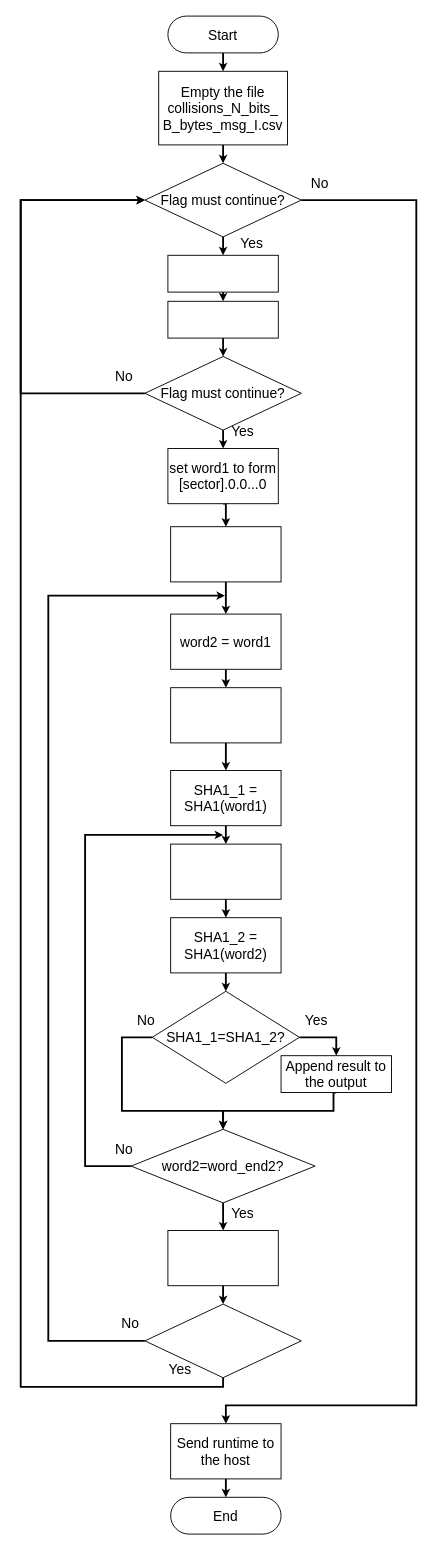
The diagram is 437 pixels wide and 1550 high, and some of its shapes have lost their labels. Each missing label, with the box of its shape:
Receive sector from host: (167, 300, 278, 338)
Send sector request to host: (167, 254, 278, 292)
set word_end1: (170, 526, 281, 582)
set word_end2: (170, 687, 281, 743)
Word1++: (167, 1230, 278, 1286)
word1=word_end1?: (144, 1303, 301, 1378)
Word2++: (170, 843, 281, 899)
